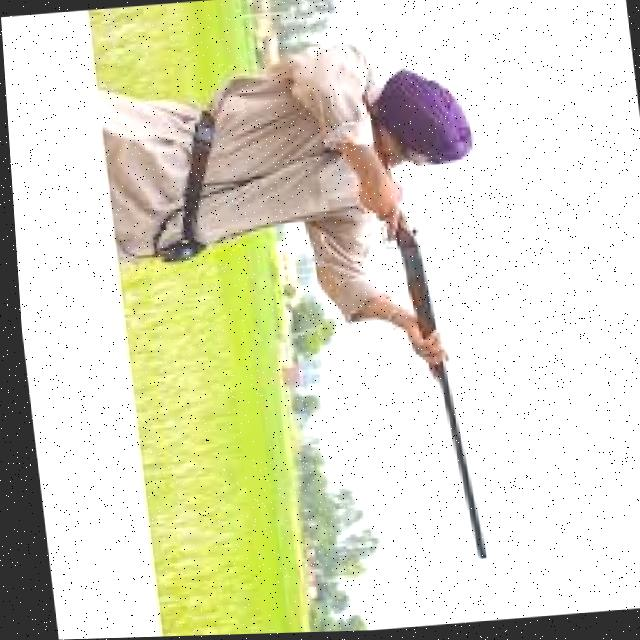firearm: (359, 89, 481, 566)
